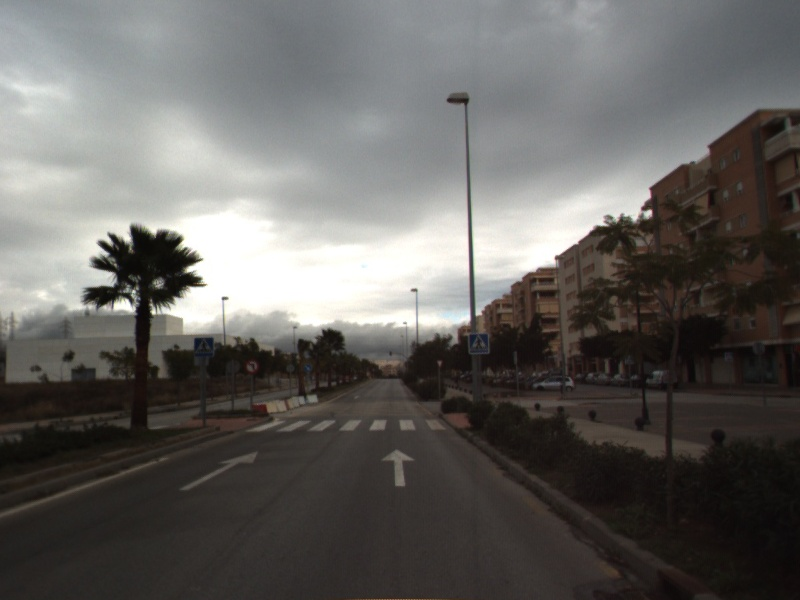STRAIGHT: (177, 449, 260, 492), (379, 446, 417, 488)
